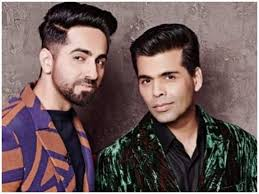Bad: (2, 2, 257, 192)
